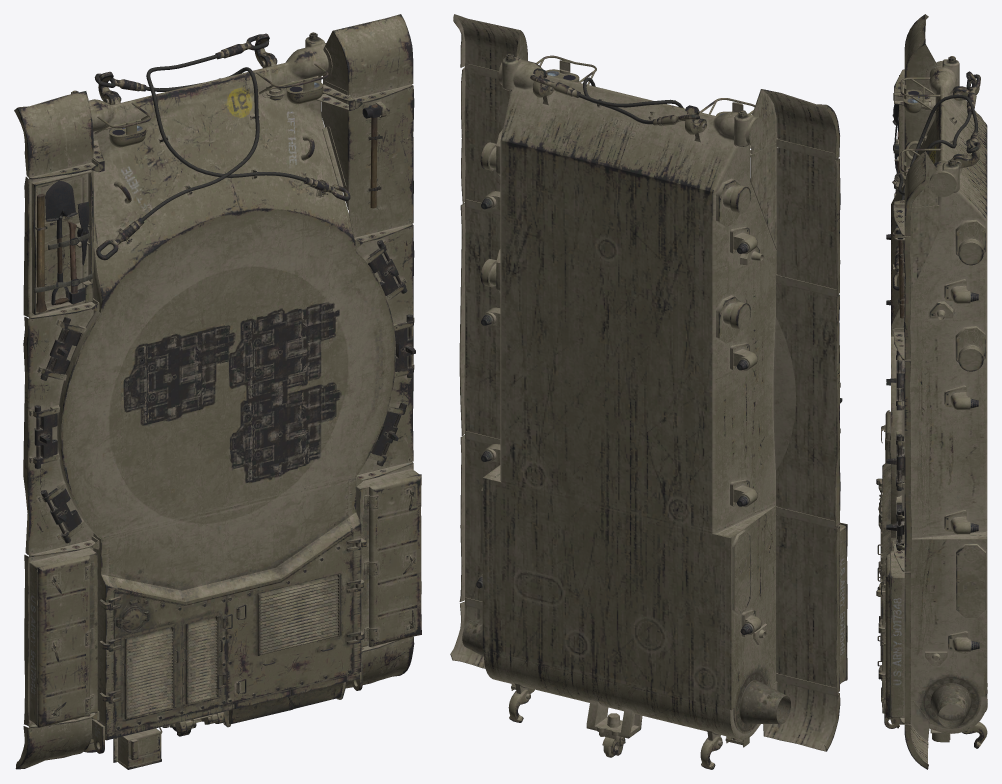
Rendered from Hull.glb.
3 renders of one model, left to right at view 1: azimuth 30°, elevation 25°; view 2: azimuth 150°, elevation 25°; view 3: azimuth 270°, elevation 25°, orthographic. The views are drawn at different scales.
Parts seen in each view (by area): view 1: set_0_group_0; view 2: set_0_group_0; view 3: set_0_group_0.
Boxes of the visible parts, x1=… form: set_0_group_0: x1=14, y1=14, x2=421, y2=769; set_0_group_0: x1=450, y1=14, x2=847, y2=769; set_0_group_0: x1=876, y1=14, x2=987, y2=769.
Size of the model in its own units: 3.23 by 5.51 by 0.9003.
Materials: 1 (1 with a texture image).
